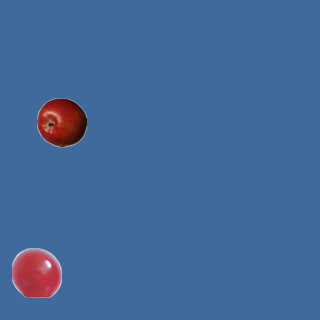Apple Braeburn: (36, 97, 86, 147)
Redcurrant: (11, 247, 61, 297)
